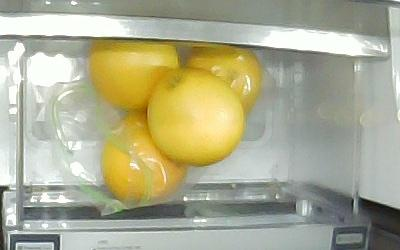grapefruit: (147, 66, 245, 166), (86, 39, 180, 111)
grapefruit_vinyl: (101, 111, 186, 201), (185, 46, 262, 111)
